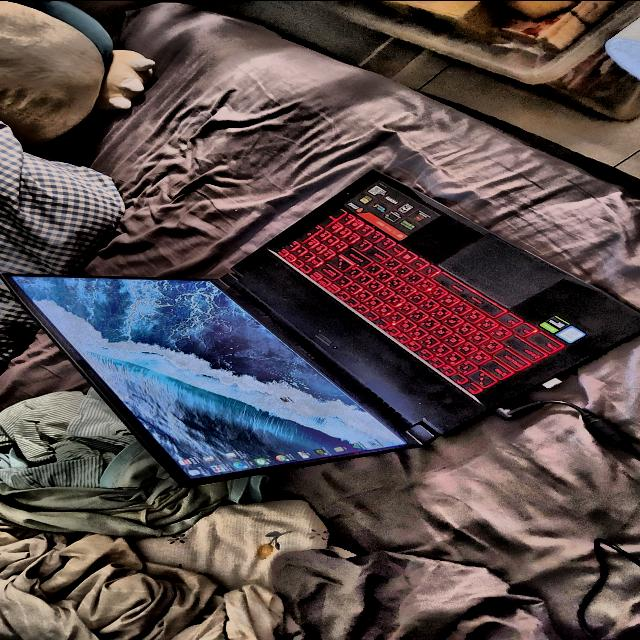Laptop: (0, 170, 640, 485)
